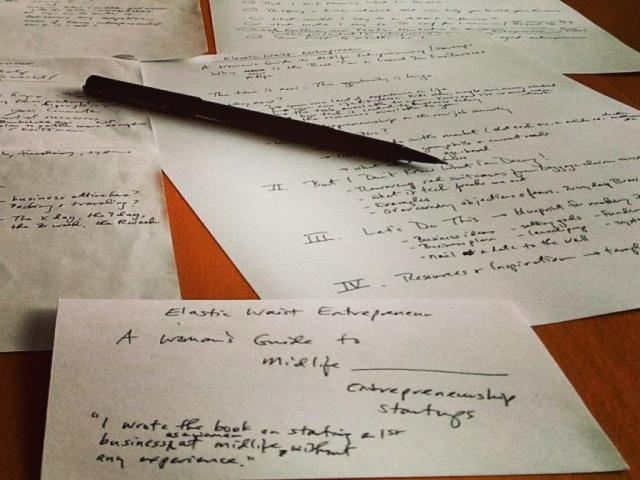PEN: (76, 70, 455, 183)
